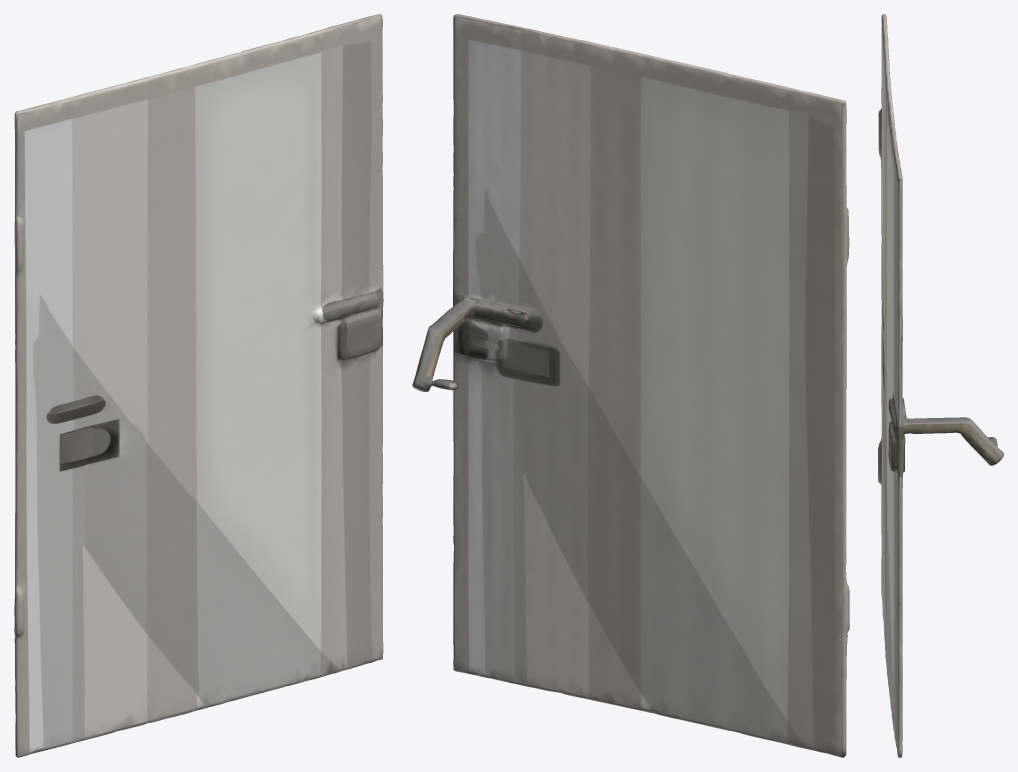
File: Doorway_Shadows_1127165146_texture.fbx
The picture shows the model from 3 angles, left to right: view 1: azimuth 30°, elevation 25°; view 2: azimuth 150°, elevation 25°; view 3: azimuth 270°, elevation 25°; orthographic projection. The views are drawn at different scales.
Visible parts, largest first — view 1: Mesh_0; view 2: Mesh_0; view 3: Mesh_0.
Part boxes in pixels (x1,y1,x2,y2): Mesh_0: (14,14,383,757); Mesh_0: (412,14,849,757); Mesh_0: (878,14,1003,757).
Bounding box in the file's own units: 123 × 201 × 39.45.
Materials: 1 (1 with a texture image).
